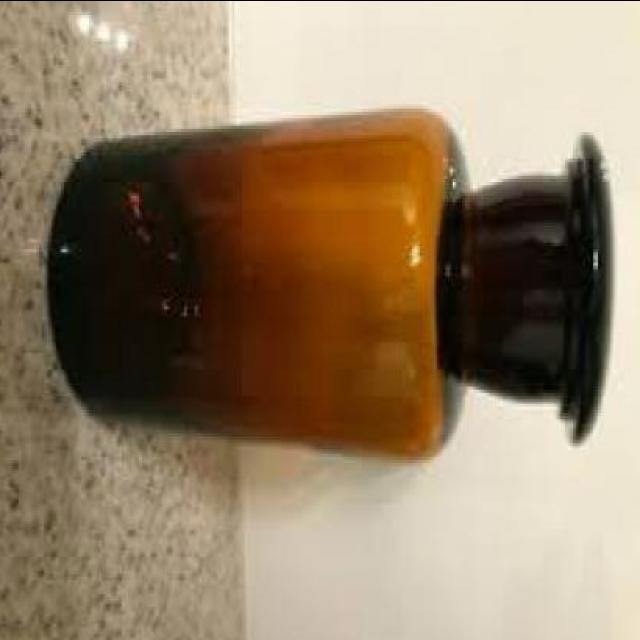kaca: (56, 108, 614, 462)
